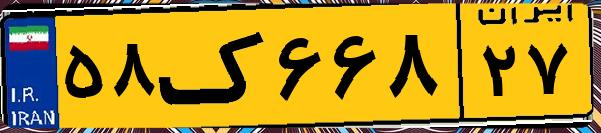2: (475, 38, 525, 113)
5: (57, 26, 110, 100)
6: (270, 28, 330, 110), (330, 28, 385, 110)
7: (525, 38, 570, 115)
8: (385, 28, 445, 110), (110, 28, 158, 98)
ک: (158, 12, 270, 120)
